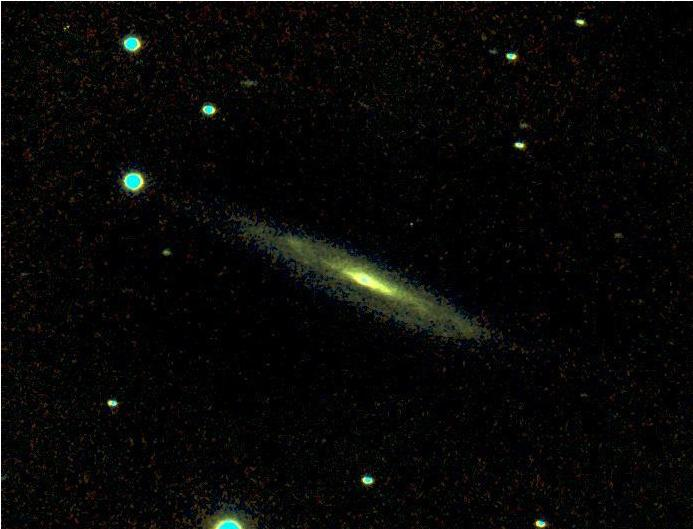star: (570, 380, 600, 410)
